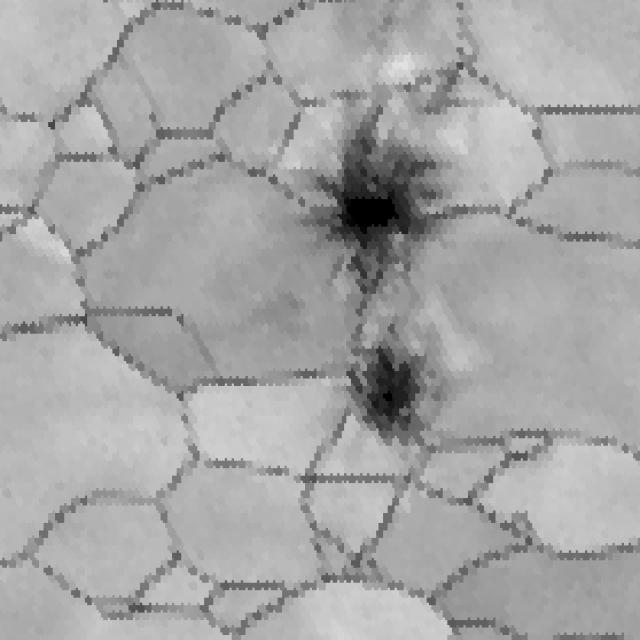good_void: (295, 97, 463, 312), (326, 309, 450, 460), (398, 54, 473, 120)
